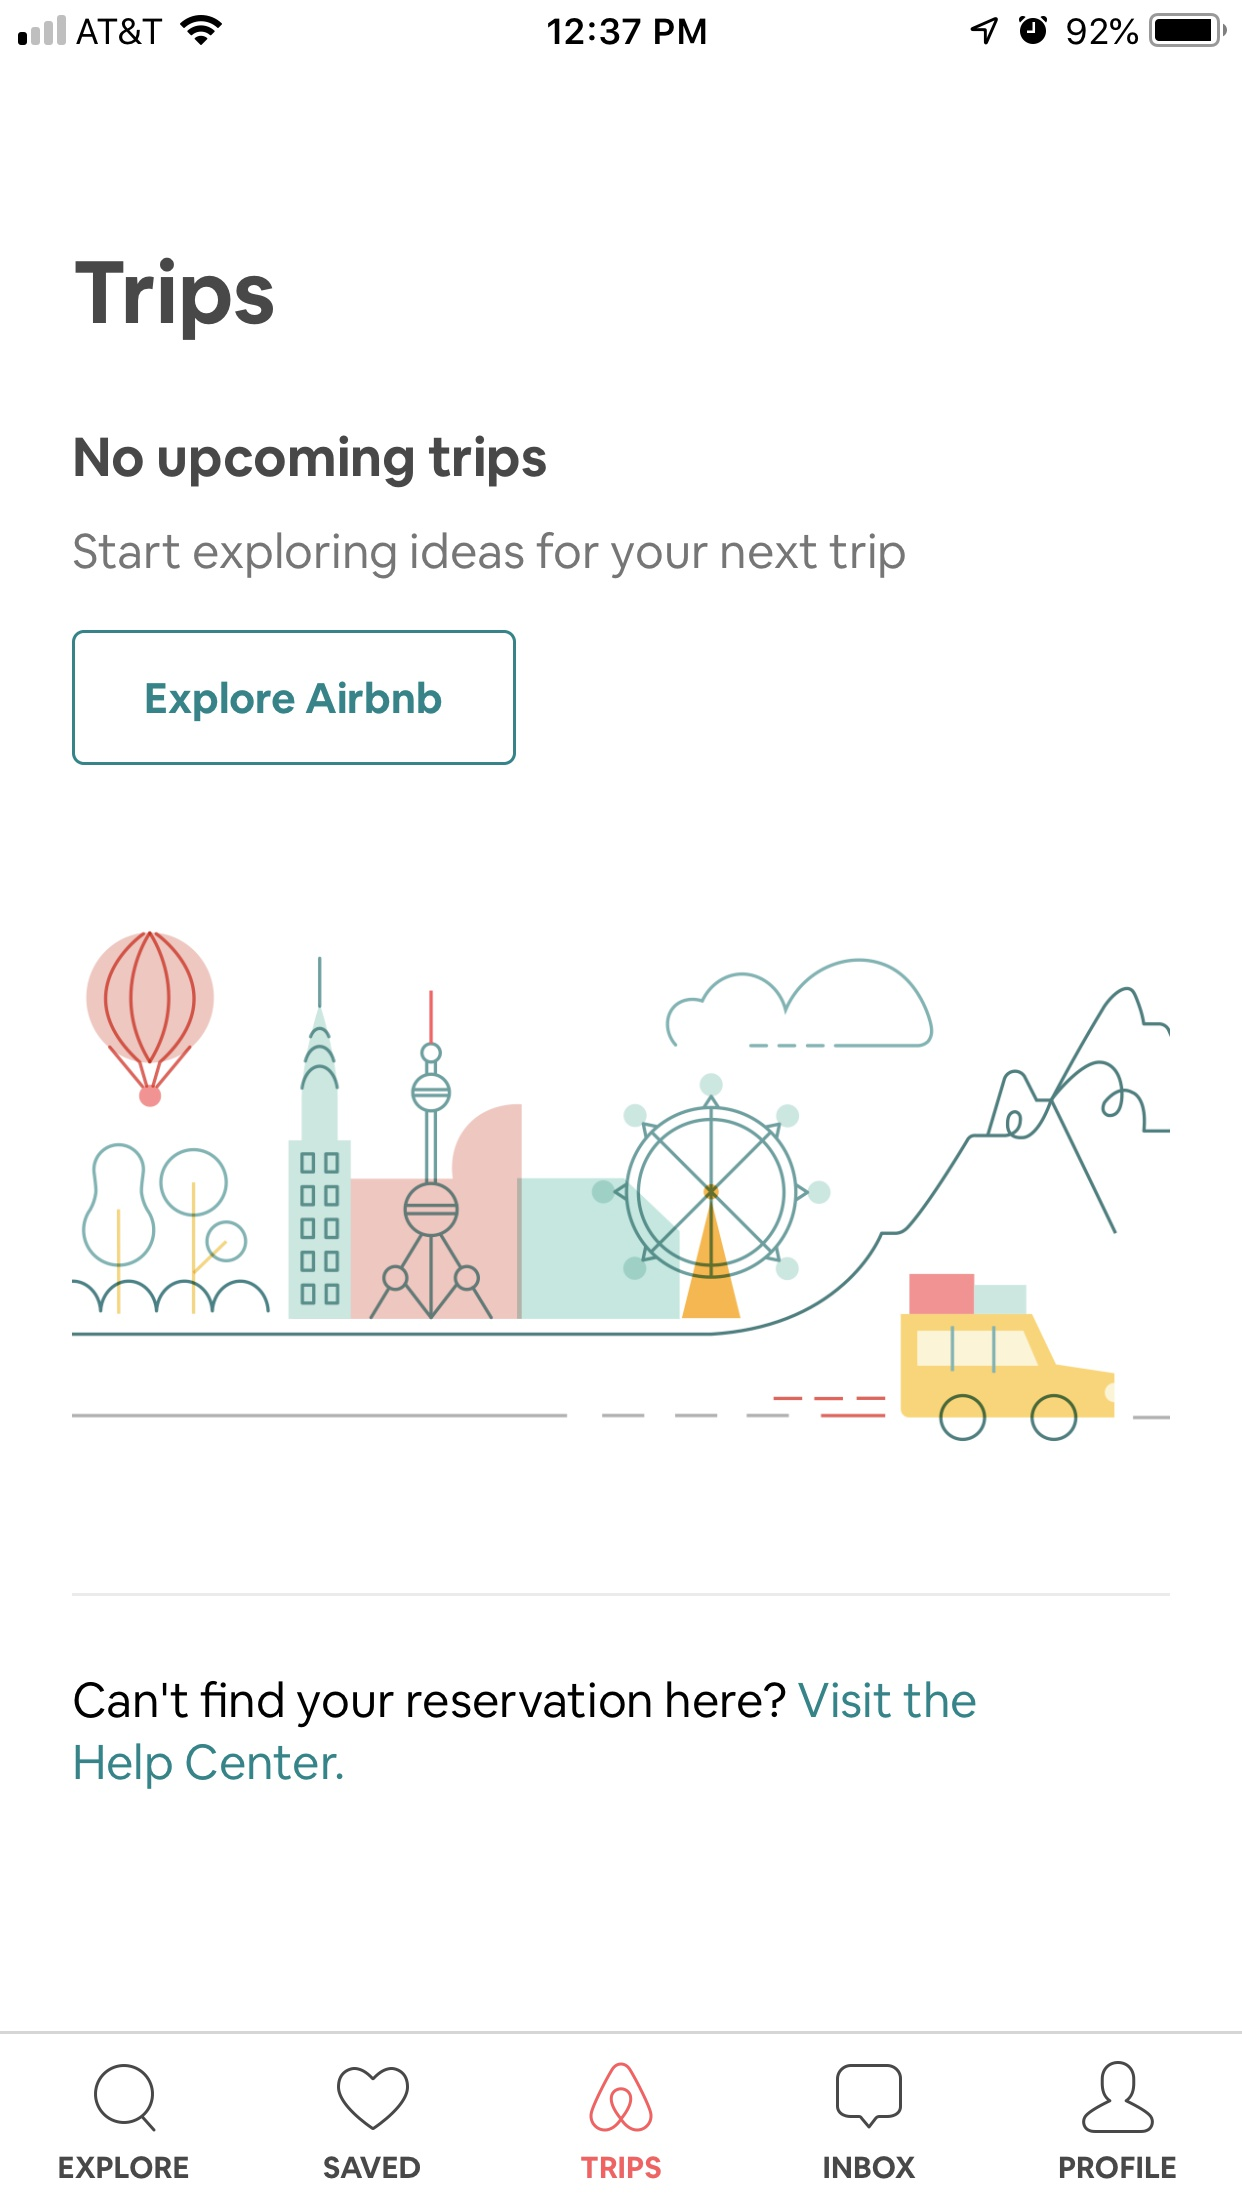Icon: (1081, 2059, 1156, 2134), (93, 2061, 159, 2137), (337, 2065, 409, 2131), (836, 2062, 902, 2129)
Image: (71, 930, 1171, 1442), (588, 2061, 654, 2132)
Text: (74, 1680, 977, 1789), (74, 532, 905, 579), (74, 434, 547, 488), (74, 256, 274, 343), (58, 2152, 190, 2181), (1060, 2156, 1177, 2181), (323, 2155, 422, 2179), (823, 2155, 916, 2179), (581, 2155, 663, 2179)
TextButton: (71, 629, 517, 767)
UpperTaskBar: (2, 2, 1242, 49)
